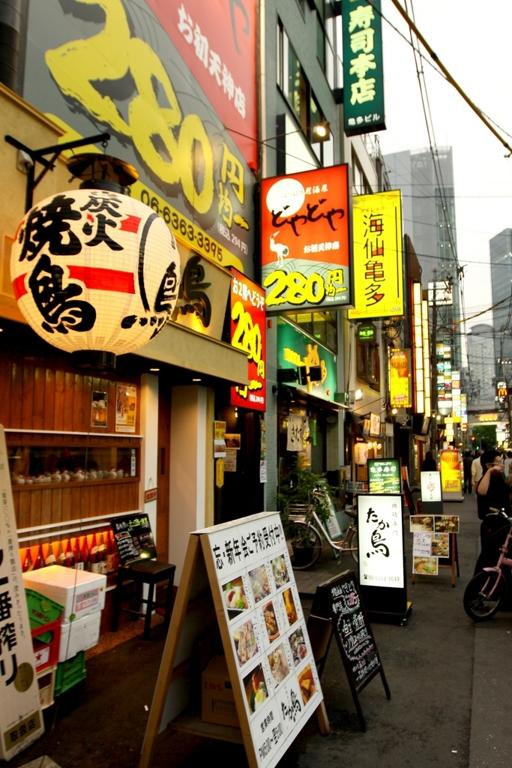non-vehicle: (281, 487, 359, 570), (462, 506, 511, 623)
